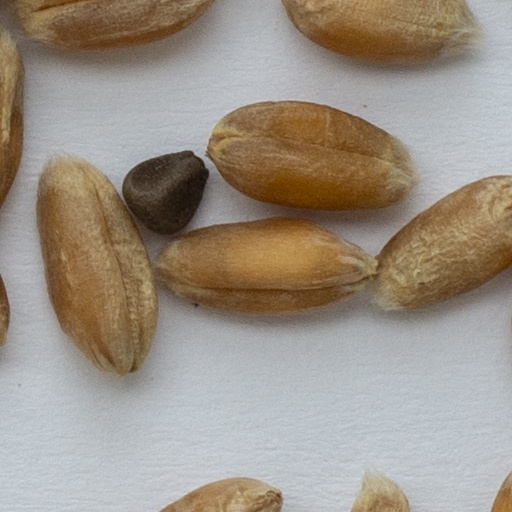Wheat-grain-damaged-poly: (346, 469, 413, 511)
